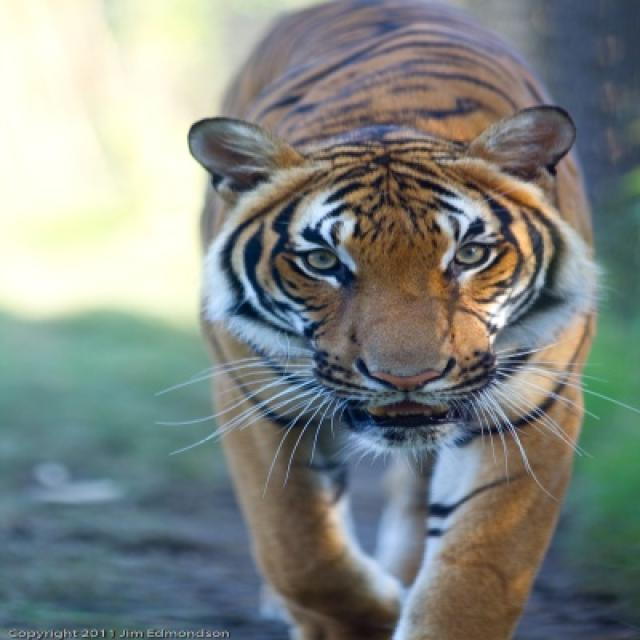Tiger: (193, 1, 600, 638)
